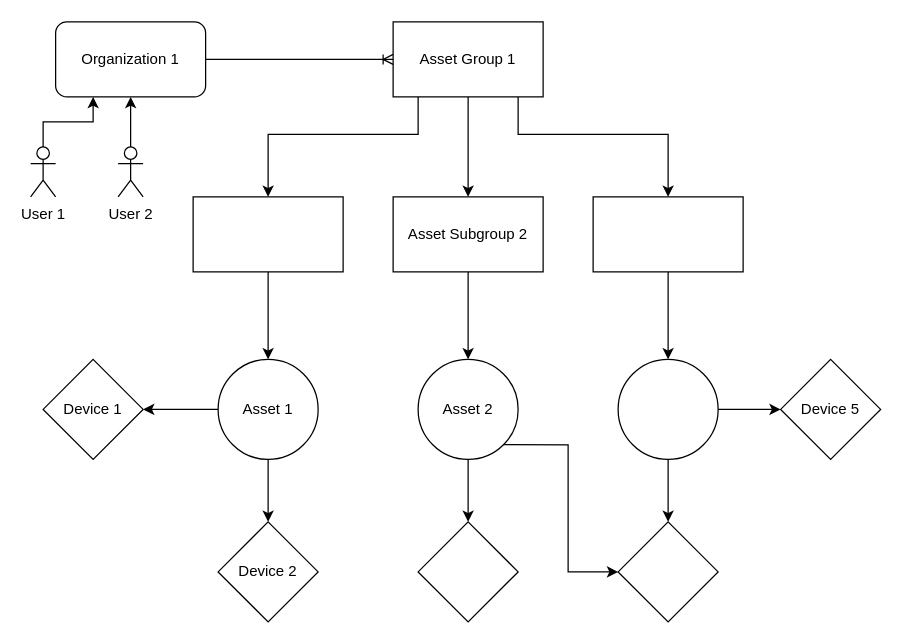
Image size: 903x644. Some labels were removed from this diagram. The centre of each missing label's shape, as x and y in pixels:
"Asset 3" goes at point 667,408.
"Asset Subgroup 1" goes at point 267,234.
"Asset Subgroup 3" goes at point 667,234.
"Device 3" goes at point 467,571.
"Device 4" goes at point 667,571.
